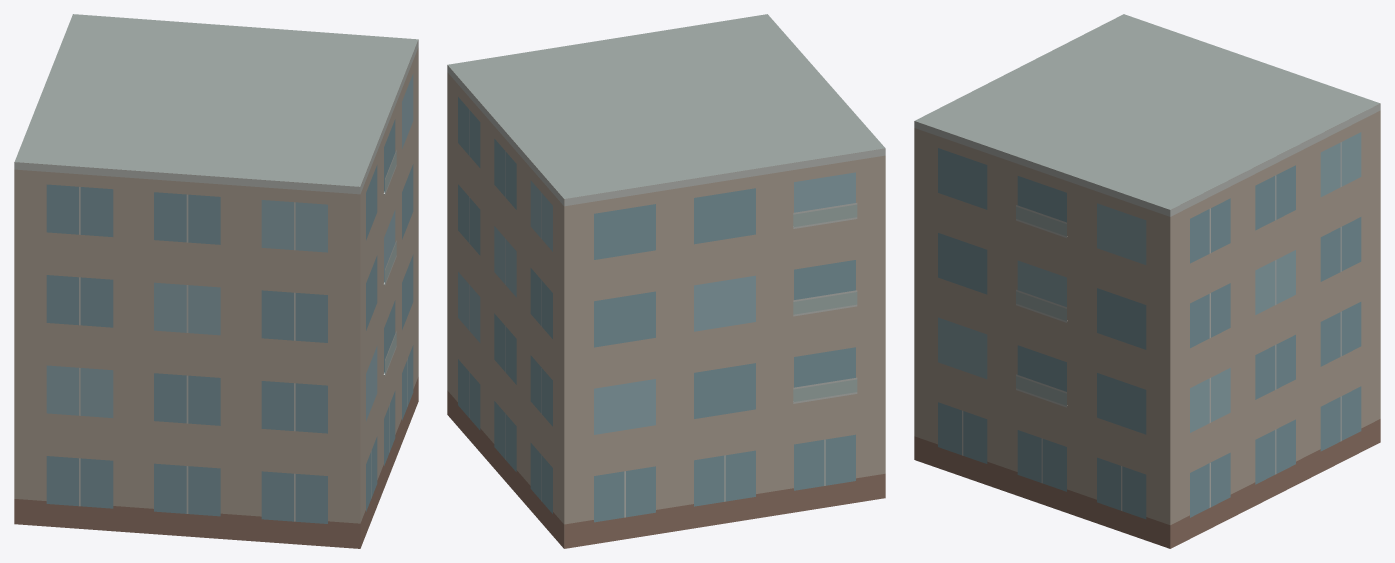
File: survey-upis-32534663.glb
3 views of the same model, side by side, from view 1: azimuth 30°, elevation 25°; view 2: azimuth 150°, elevation 25°; view 3: azimuth 270°, elevation 25° (orthographic). The views are drawn at different scales.
Visible parts, largest first — view 1: survey-upis-32534663.tmp; view 2: survey-upis-32534663.tmp; view 3: survey-upis-32534663.tmp.
Boxes of the visible parts, x1,y1,x2,y2 form: survey-upis-32534663.tmp: [14, 14, 418, 548]; survey-upis-32534663.tmp: [447, 14, 885, 548]; survey-upis-32534663.tmp: [914, 14, 1380, 548].
Bounding box in the file's own units: 14.64 × 11.8 × 14.72.
